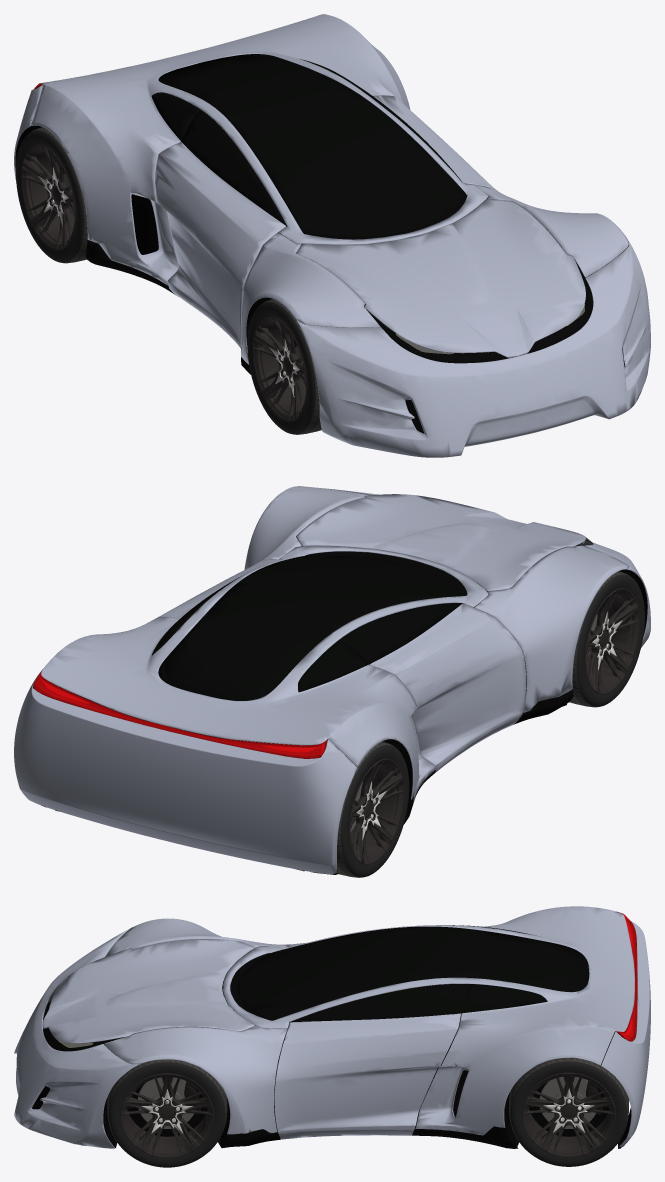
The model's file is 3D-model2-opt.glb.
3 renders of one model, top to bottom at view 1: azimuth 30°, elevation 25°; view 2: azimuth 150°, elevation 25°; view 3: azimuth 270°, elevation 25°, orthographic. The views are drawn at different scales.
Visible parts, largest first — view 1: Cube.046_body_color_supra.002_0, brakes_Coll|Mesh6.004|Dupli|_brakeCalipers_0, tire_v001_Coll|Mesh5.004|Dupli|_rubber___tires.001_0, Cube.038_blockers_0, Cube.044_headlightCovers.001_0, tire_v001_Coll|Mesh5.004|Dupli|_tireProtector_0; view 2: Cube.046_body_color_supra.002_0, brakes_Coll|Mesh6.004|Dupli|_brakeCalipers_0, tire_v001_Coll|Mesh5.004|Dupli|_rubber___tires.001_0, Cube.038_blockers_0, Cube.044_headlightCovers.001_0, tire_v001_Coll|Mesh5.004|Dupli|_tireProtector_0; view 3: Cube.046_body_color_supra.002_0, brakes_Coll|Mesh6.004|Dupli|_brakeCalipers_0, tire_v001_Coll|Mesh5.004|Dupli|_rubber___tires.001_0, Cube.038_blockers_0, tire_v001_Coll|Mesh5.004|Dupli|_tireProtector_0, Cube.044_headlightCovers.001_0.
Part boxes in pixels (x1,y1,x2,y2): Cube.046_body_color_supra.002_0: (14,14,650,457); brakes_Coll|Mesh6.004|Dupli|_brakeCalipers_0: (21,54,465,421); tire_v001_Coll|Mesh5.004|Dupli|_rubber___tires.001_0: (16,130,315,434); Cube.038_blockers_0: (15,79,628,433); Cube.044_headlightCovers.001_0: (33,14,593,363); tire_v001_Coll|Mesh5.004|Dupli|_tireProtector_0: (31,127,321,434); Cube.046_body_color_supra.002_0: (14,486,650,874); brakes_Coll|Mesh6.004|Dupli|_brakeCalipers_0: (151,555,639,864); tire_v001_Coll|Mesh5.004|Dupli|_rubber___tires.001_0: (341,574,644,877); Cube.038_blockers_0: (33,510,647,874); Cube.044_headlightCovers.001_0: (33,494,592,758); tire_v001_Coll|Mesh5.004|Dupli|_tireProtector_0: (336,571,630,877); Cube.046_body_color_supra.002_0: (14,906,650,1148); brakes_Coll|Mesh6.004|Dupli|_brakeCalipers_0: (120,925,615,1157); tire_v001_Coll|Mesh5.004|Dupli|_rubber___tires.001_0: (109,1061,627,1167); Cube.038_blockers_0: (32,920,636,1148); tire_v001_Coll|Mesh5.004|Dupli|_tireProtector_0: (107,1058,628,1153); Cube.044_headlightCovers.001_0: (43,912,637,1051).
Size of the model in its own units: 2.07 by 1.04 by 3.98.
Materials: 8 (7 with a texture image).
